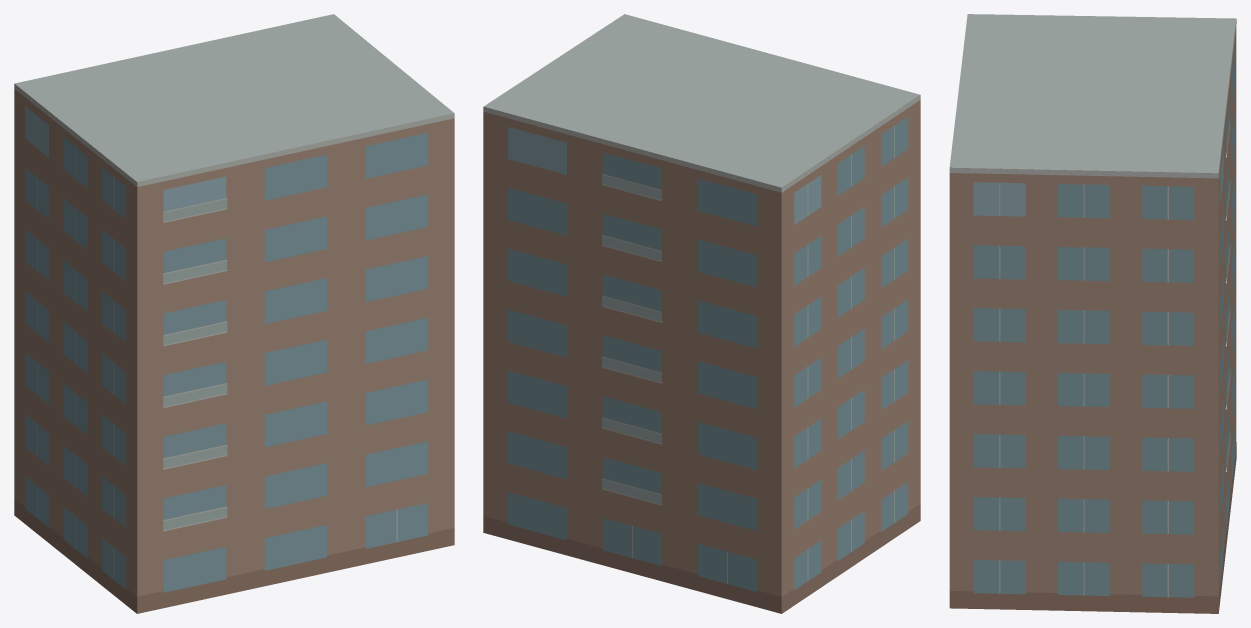
File: survey-upis-32881533.glb
3 renders of one model, left to right at view 1: azimuth 30°, elevation 25°; view 2: azimuth 150°, elevation 25°; view 3: azimuth 270°, elevation 25°, orthographic. The views are drawn at different scales.
Visible parts, largest first — view 1: survey-upis-32881533.tmp; view 2: survey-upis-32881533.tmp; view 3: survey-upis-32881533.tmp.
Boxes of the visible parts, <box> form: survey-upis-32881533.tmp: <box>14,14,454,613</box>; survey-upis-32881533.tmp: <box>483,14,920,613</box>; survey-upis-32881533.tmp: <box>949,14,1236,613</box>.
Size of the model in its own units: 16.05 by 20.7 by 12.22.
